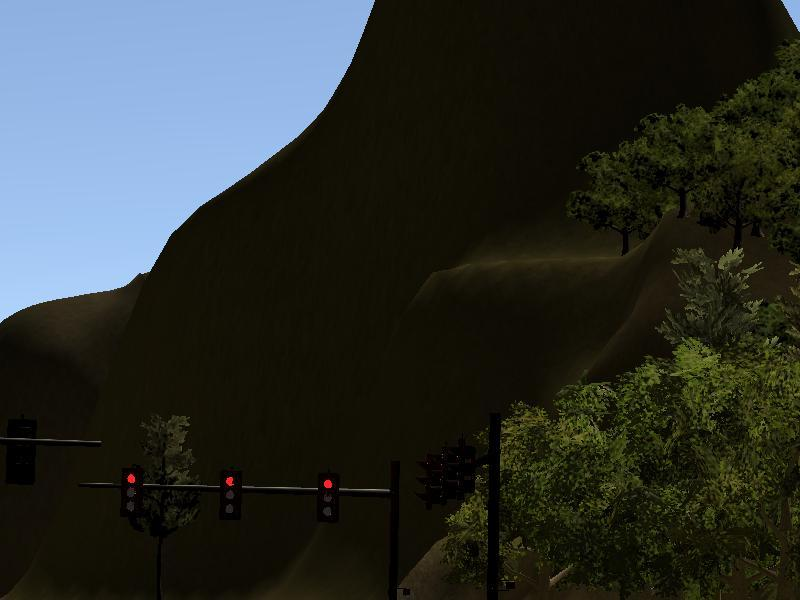Red: (220, 473, 241, 524), (320, 472, 336, 524), (124, 470, 140, 518)
